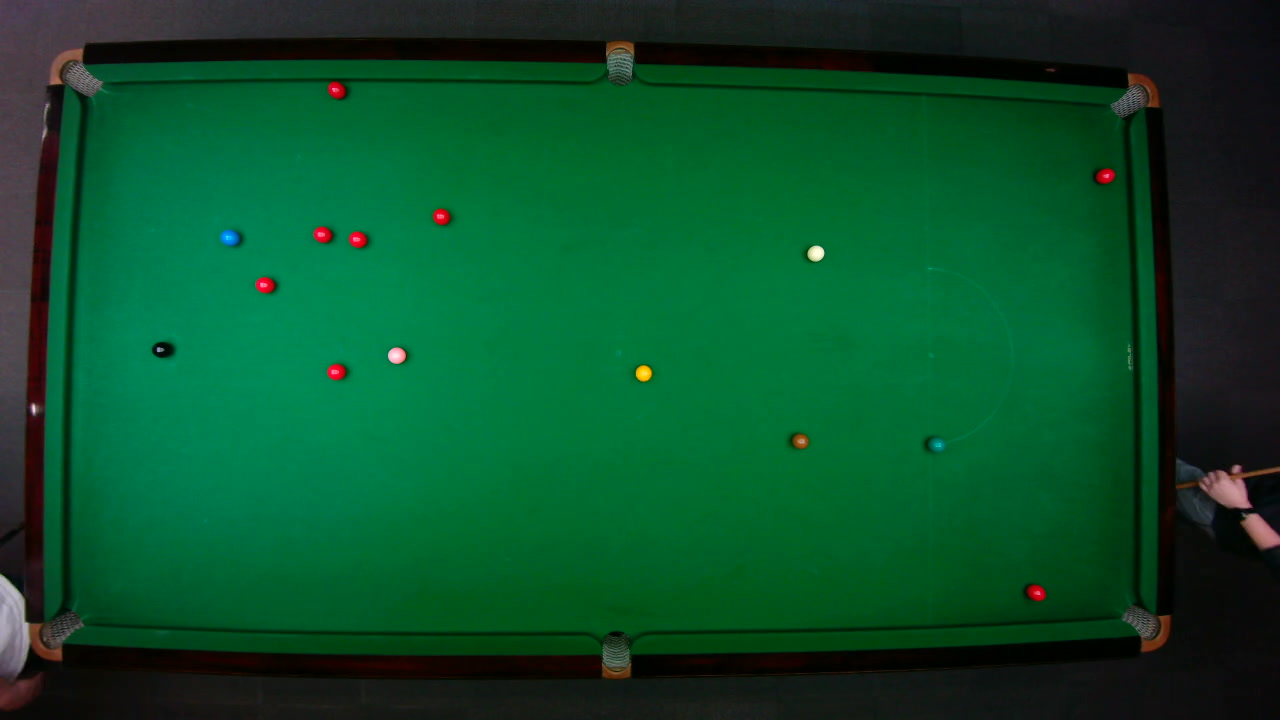bag: (28, 608, 85, 661), (46, 47, 103, 97), (1119, 603, 1171, 651), (1108, 72, 1160, 118), (601, 629, 630, 680), (605, 39, 633, 86)
black: (150, 340, 172, 358)
blue: (218, 228, 240, 246)
brown: (790, 432, 809, 449)
green: (926, 435, 945, 452)
pink: (386, 345, 407, 364)
red: (1093, 166, 1116, 184), (1025, 582, 1046, 601), (326, 80, 346, 99), (431, 206, 451, 225), (347, 229, 367, 248), (311, 225, 332, 243), (325, 362, 346, 380), (254, 275, 275, 293)
white: (805, 243, 824, 262)
yellow: (633, 363, 653, 382)
zone: (925, 266, 1013, 445)
